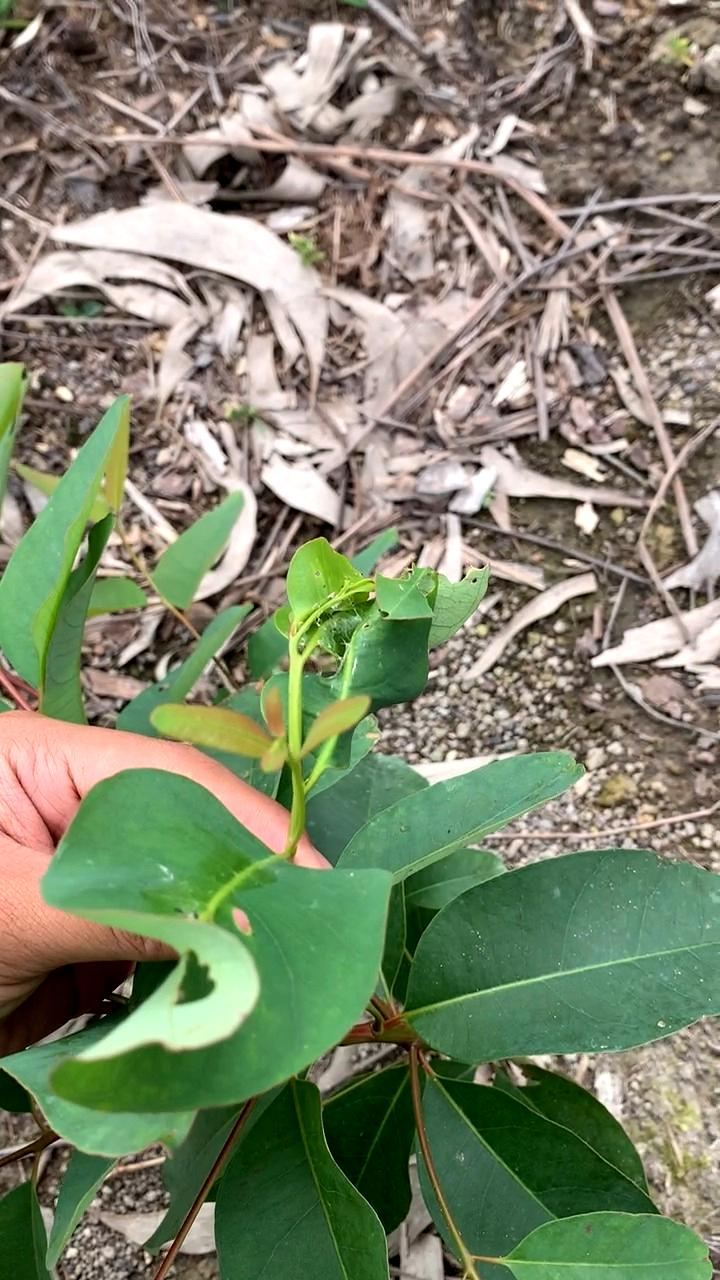Leaf Roller - Leaf: (269, 520, 476, 720)
